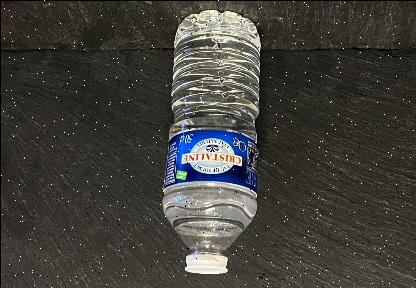Plastic Bottle: (162, 8, 260, 274)
